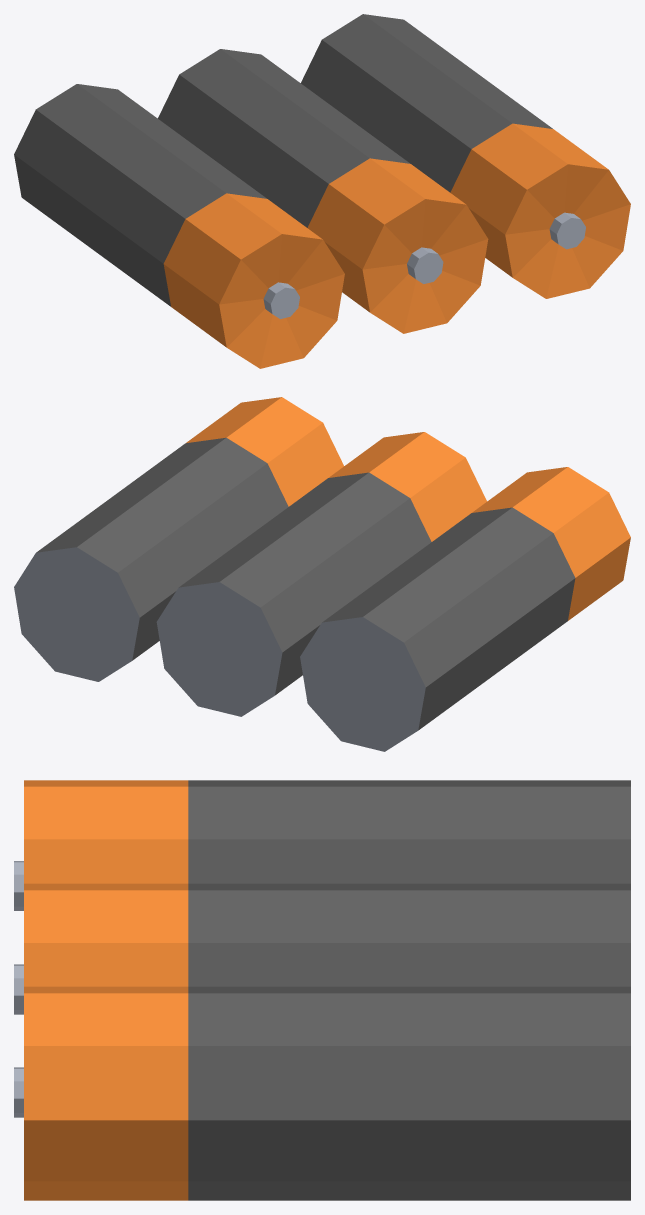
File: Battery.fbx
The picture shows the model from 3 angles, top to bottom: view 1: azimuth 30°, elevation 25°; view 2: azimuth 150°, elevation 25°; view 3: azimuth 270°, elevation 25°; orthographic projection. The views are drawn at different scales.
Parts seen in each view (by area): view 1: Battries; view 2: Battries; view 3: Battries.
Boxes of the visible parts, x1=… form: Battries: x1=14, y1=14, x2=630, y2=368; Battries: x1=14, y1=397, x2=630, y2=751; Battries: x1=14, y1=780, x2=630, y2=1200.
Bounding box in the file's own units: 210 × 63.2 × 184.
